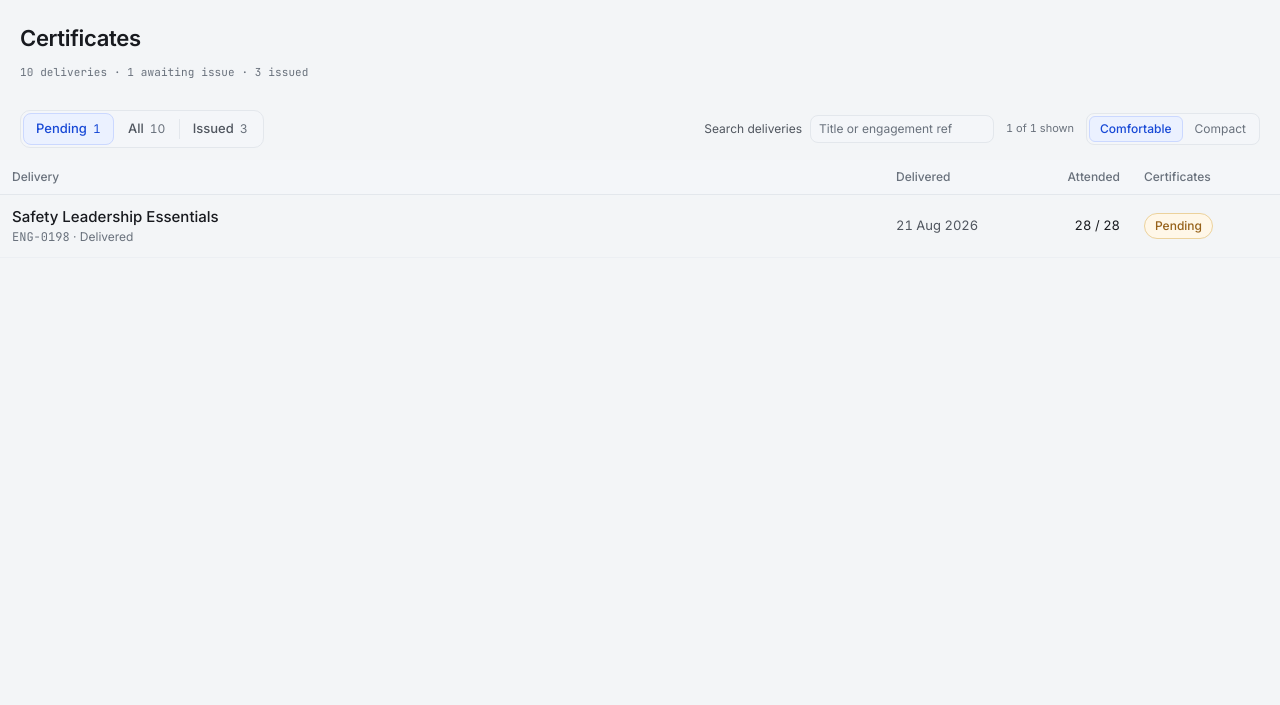
Test: the certificate register › reads the participant roll only when a row is opened
The width and height of the screenshot is (1280, 705).
Click the tab "All 10".
click(147, 128)  # box [115,112,179,144]
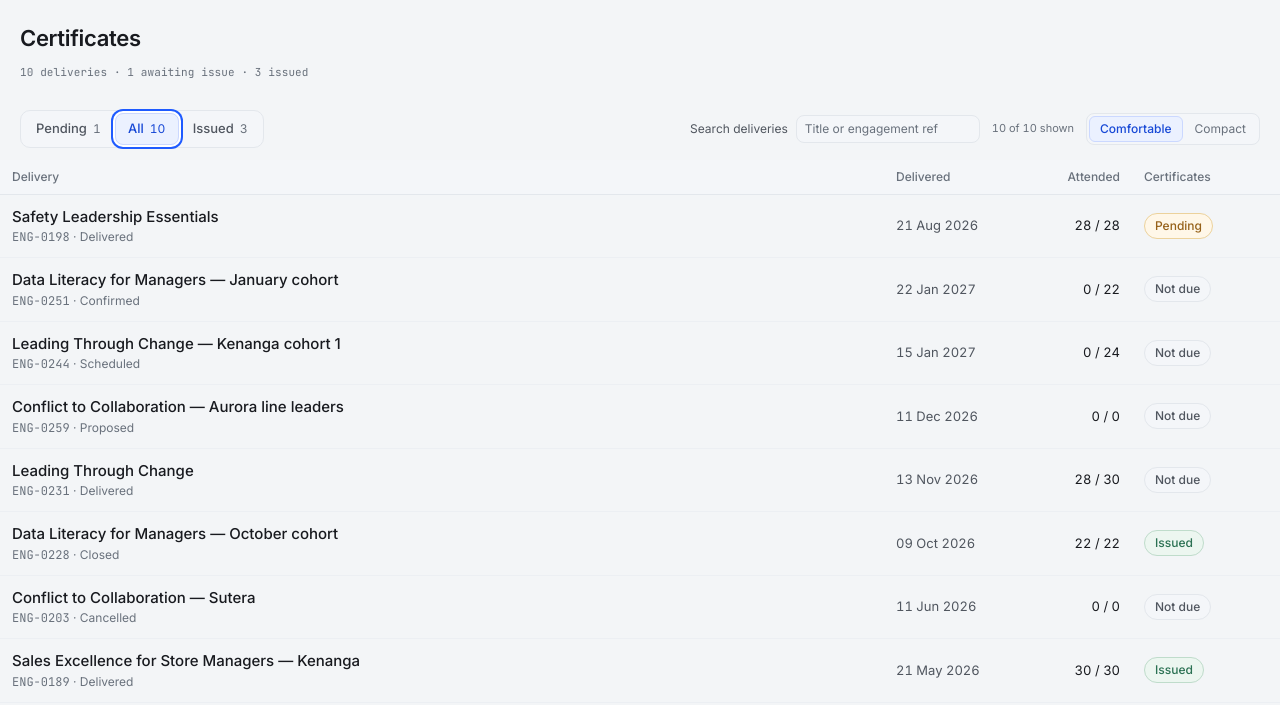
Click the text "Leading Through Change".
click(640, 480)  # box [0,448,1279,512]
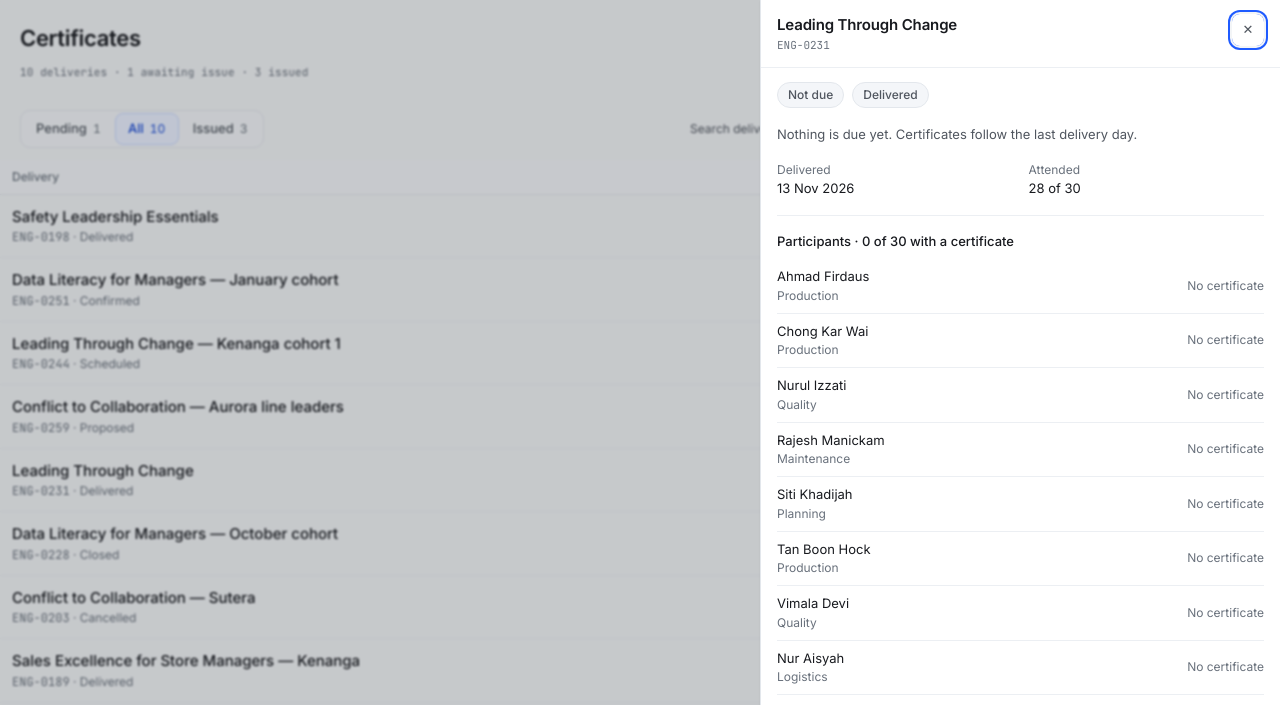
Result: the heading "Participants · 0 of 30 with a certificate" is shown at [777,233,1014,249]
Result: the text "No certificate" in the row of "Ahmad Firdaus" is shown at [1187,278,1264,293]
